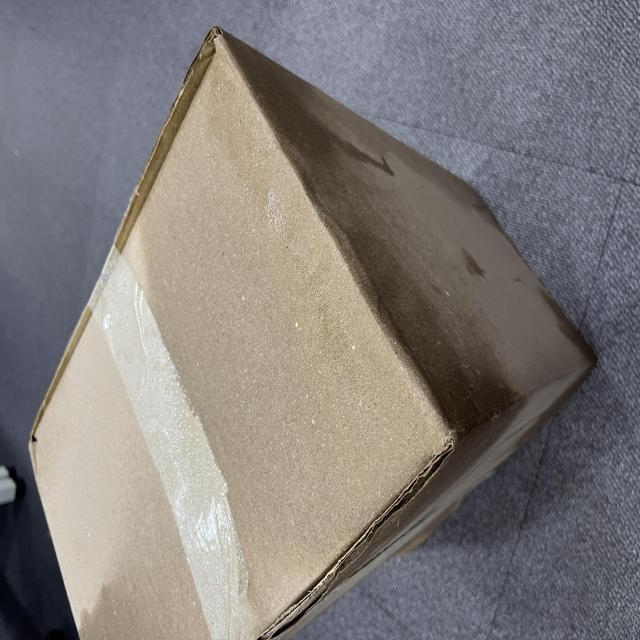wet: (1, 69, 432, 640)
